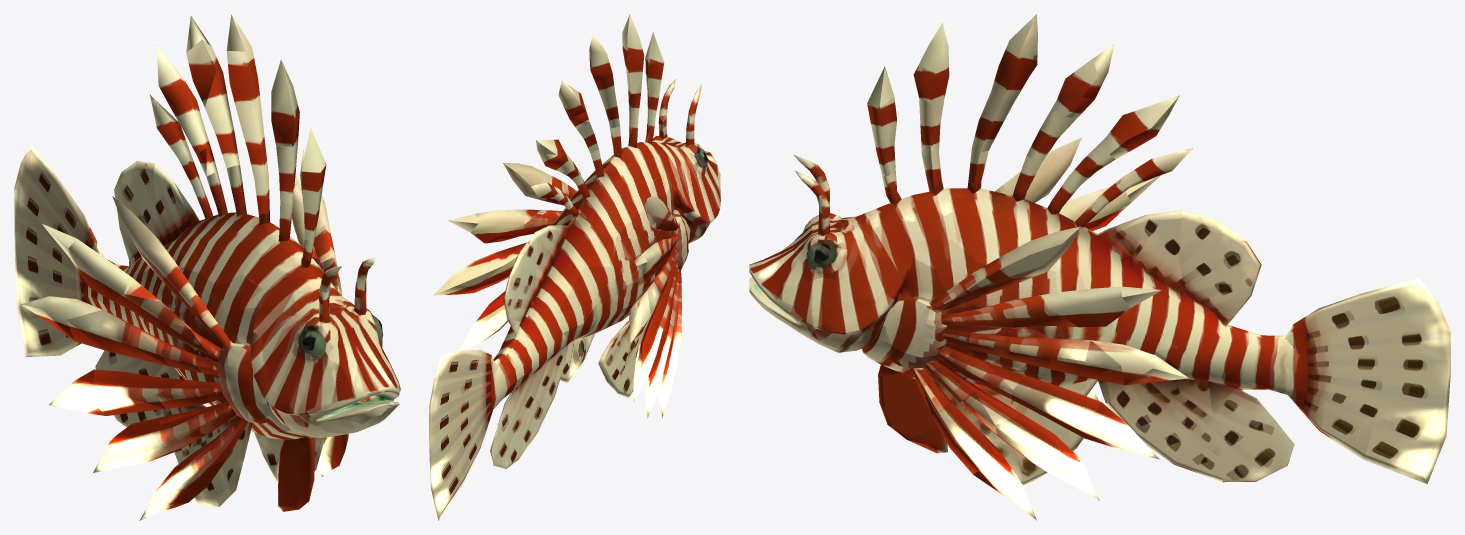
3 renders of one model, left to right at view 1: azimuth 30°, elevation 25°; view 2: azimuth 150°, elevation 25°; view 3: azimuth 270°, elevation 25°, orthographic. The views are drawn at different scales.
Bounding box in the file's own units: 0.4102 × 0.7402 × 1.
Materials: 1 (1 with a texture image).
